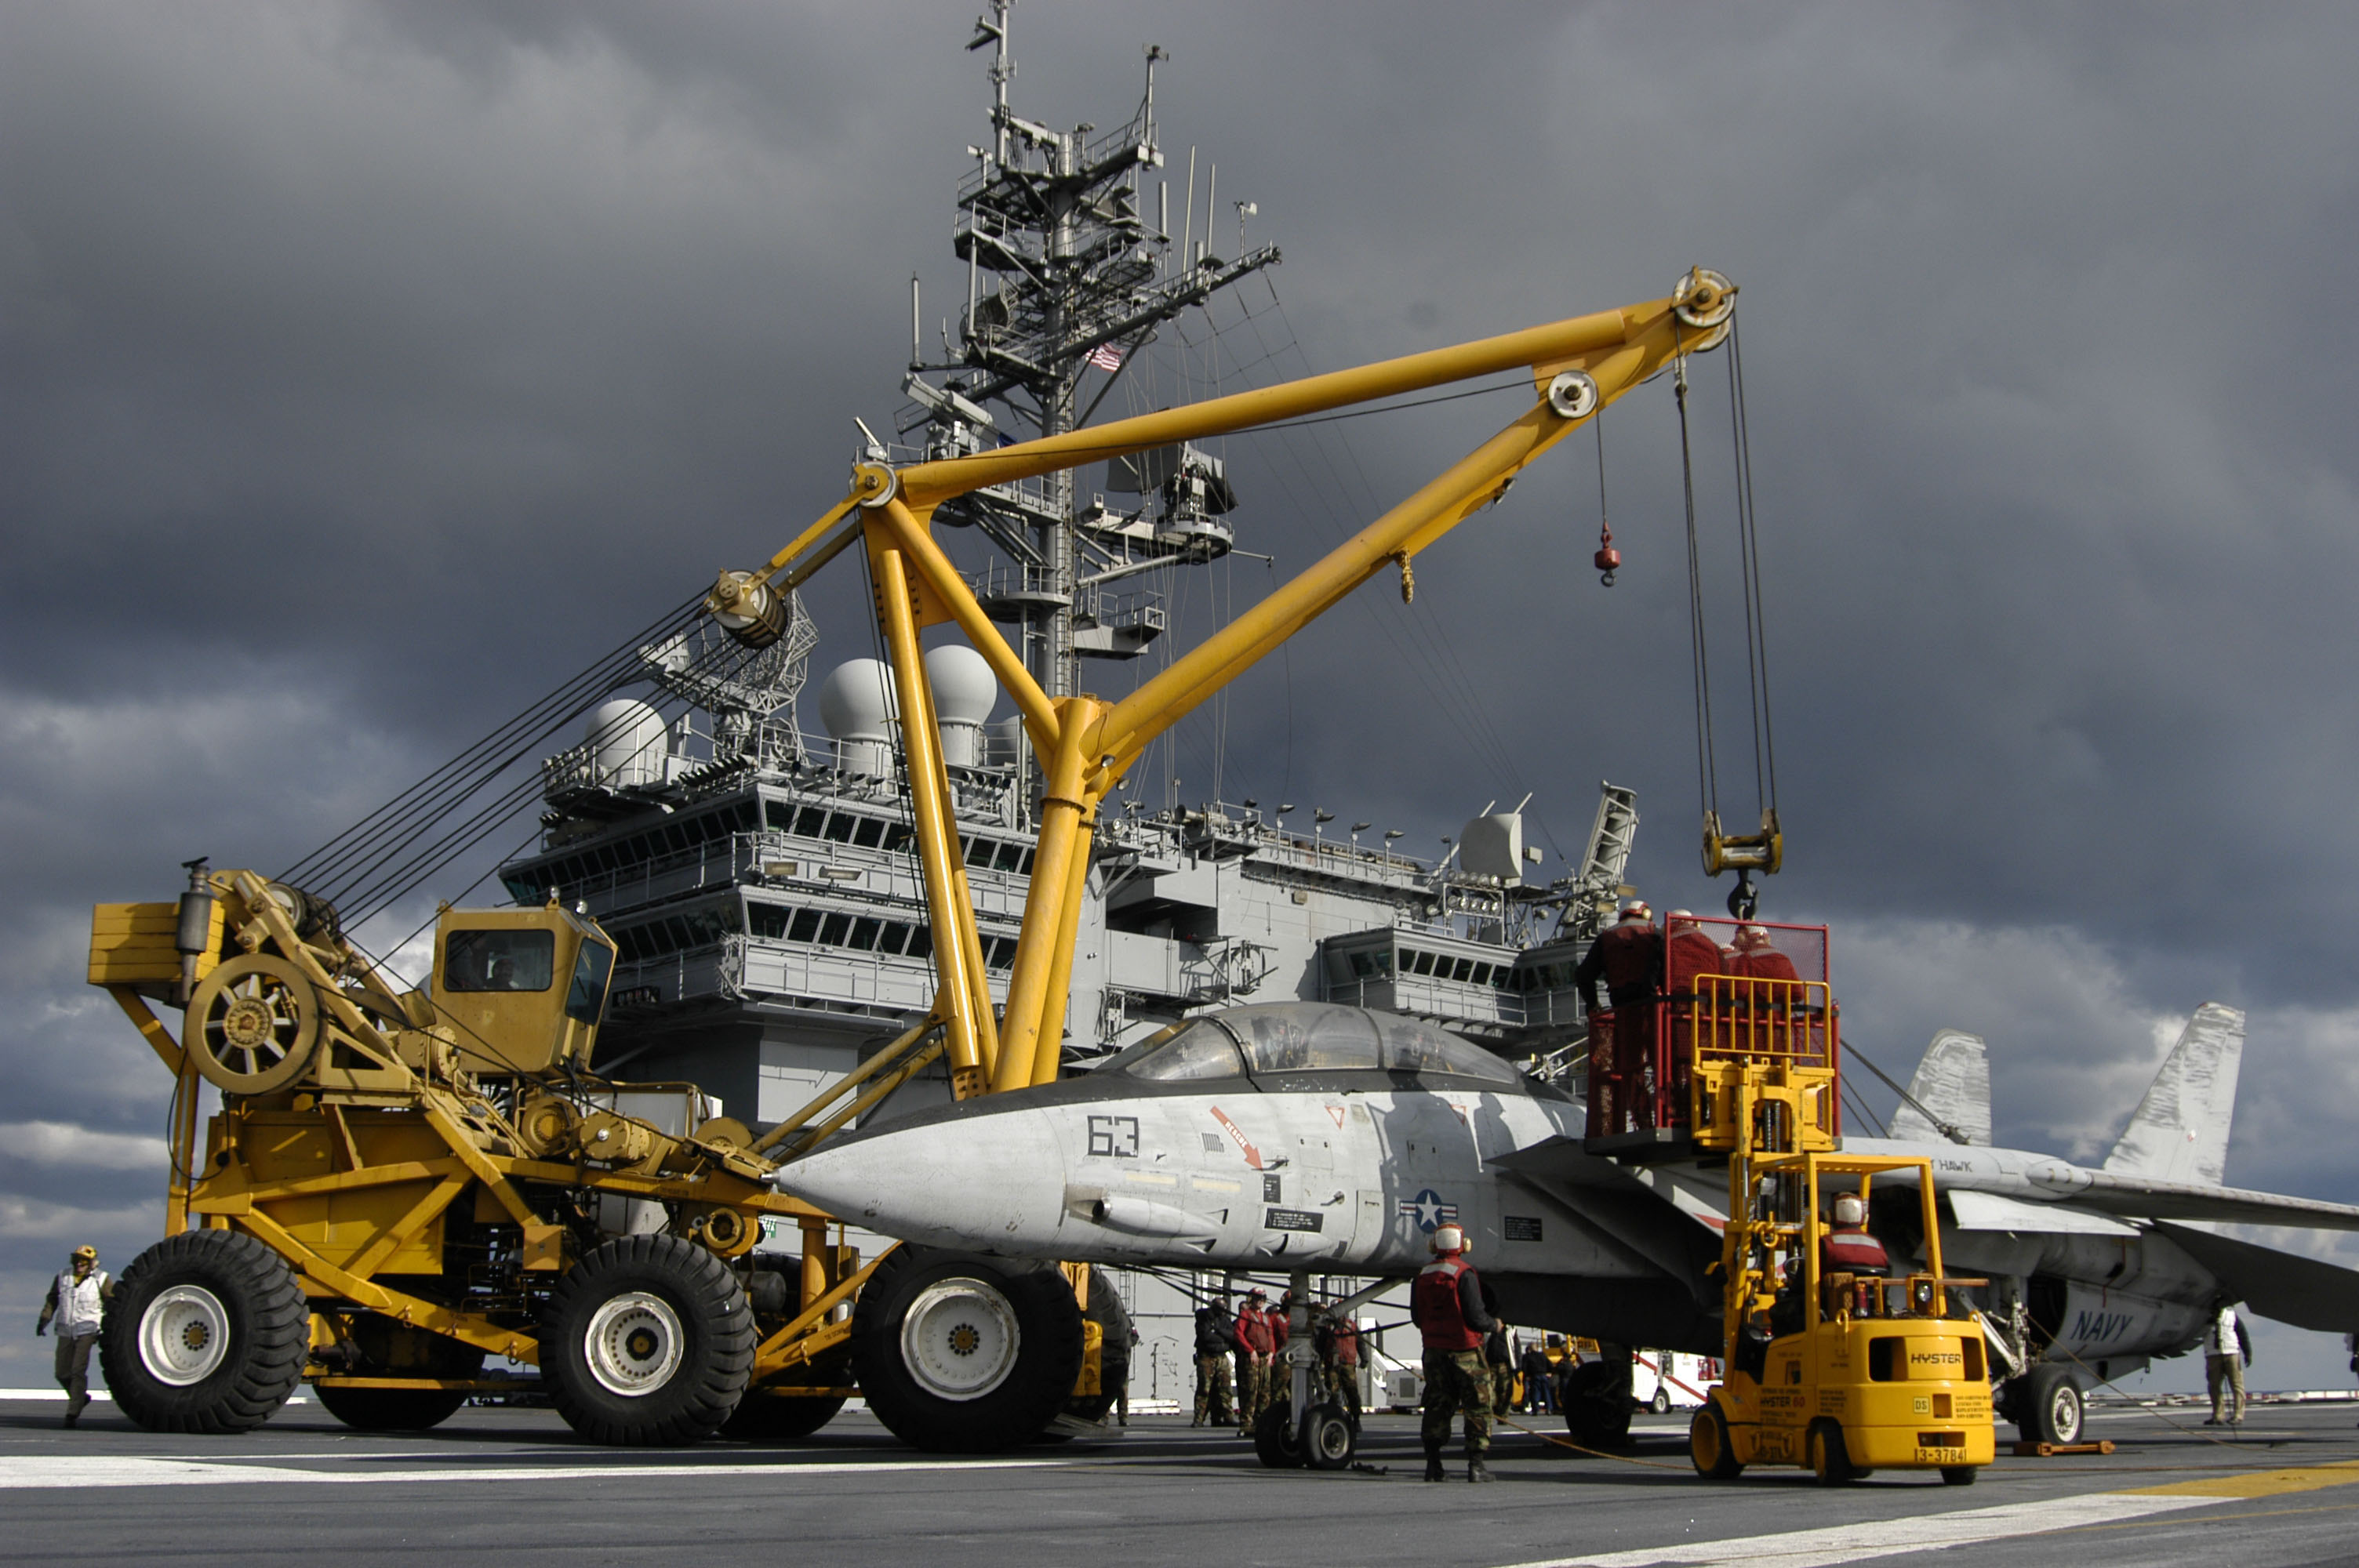F14: (758, 1001, 2359, 1470)
